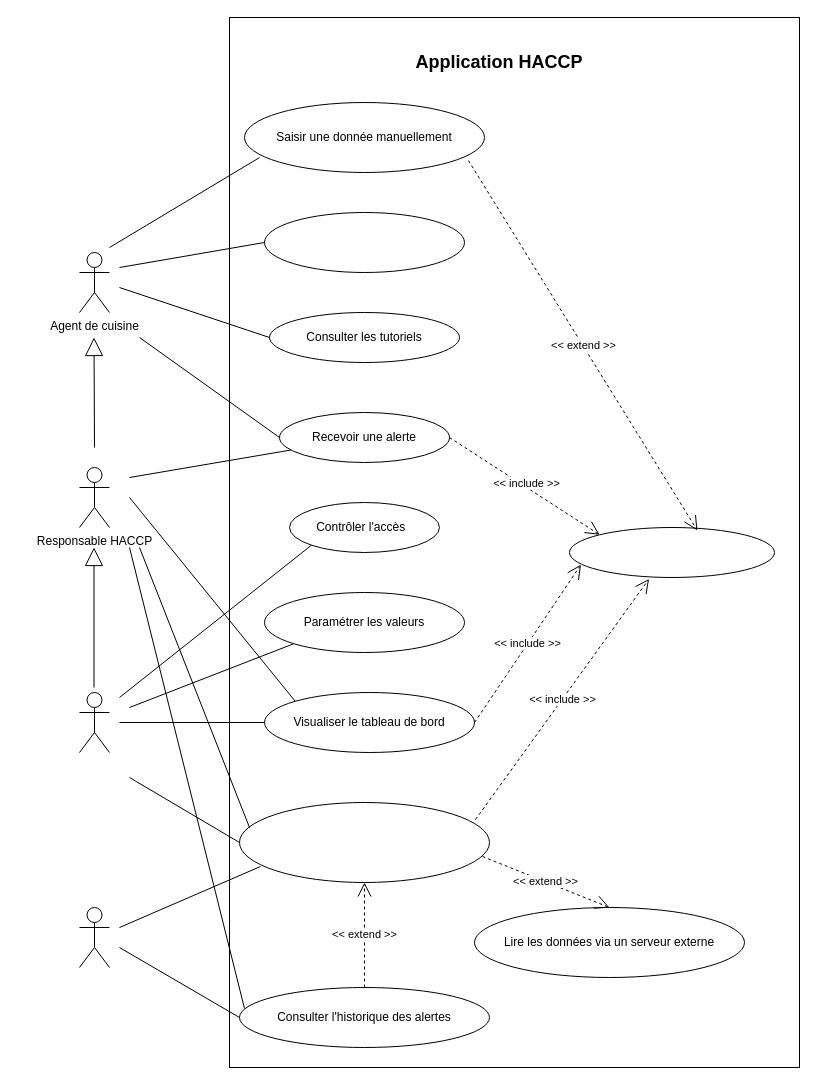
Image size: 817x1085. Some labels were removed from this diagram. Each missing label, with the centre of its shape:
"Autorité sanitaire" belongs at point (94, 937).
"Compéter un questionnaire" belongs at point (364, 242).
"Exporter un rapport de conformité" belongs at point (364, 842).
"Gestionnaire d'établissement" belongs at point (94, 722).
"Synchroniser les données" belongs at point (671, 552).
